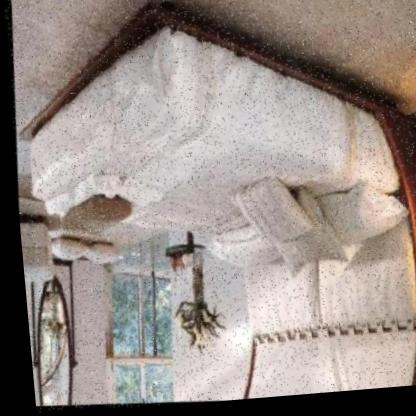Bed: (0, 0, 416, 384)
